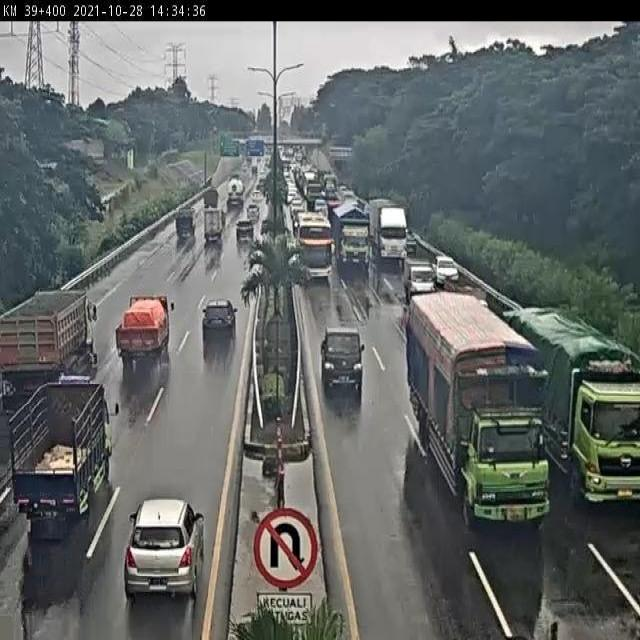big bus: (293, 211, 333, 280)
big truck: (400, 296, 552, 528), (512, 306, 640, 502), (0, 293, 100, 403), (367, 188, 411, 259), (331, 199, 372, 268)
car: (123, 499, 207, 596), (320, 328, 367, 392), (200, 298, 240, 342), (405, 259, 436, 300), (434, 255, 459, 284), (233, 220, 254, 248), (244, 201, 261, 224)
small truck: (8, 383, 116, 528), (113, 292, 177, 369), (201, 210, 227, 246), (171, 206, 196, 242), (199, 185, 220, 215)
